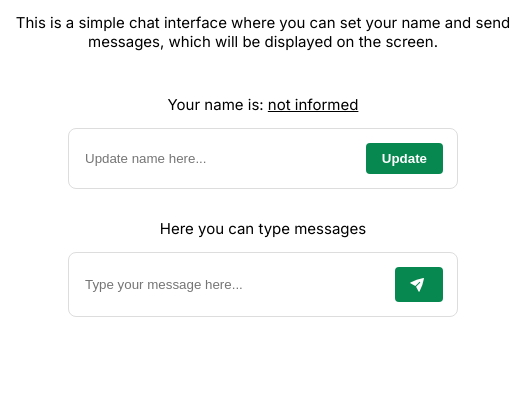
Test case: Interactions › typing in message input and hitting the send button updates message list
This screenshot has width=526, height=395.
In the field with placeholder "Type your message here...": [229, 284] box [83,267,375,302], type "Hello"
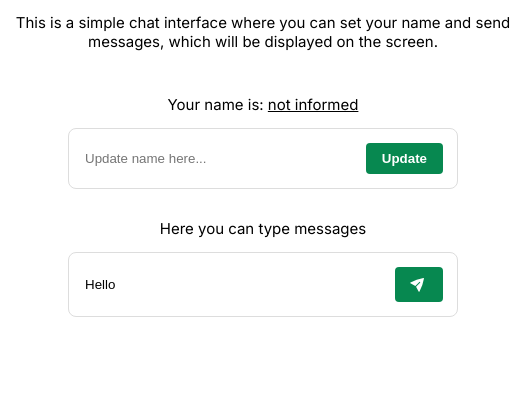
Click the button with test id "sendMessageButton": [419, 284] box [395,267,443,302]
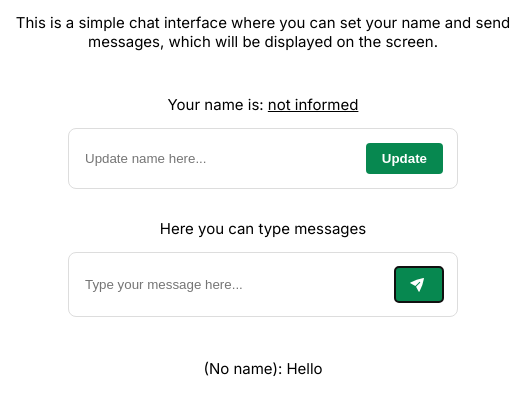
Now the text "(No name): Hello" is shown, box [203,359,323,378]
